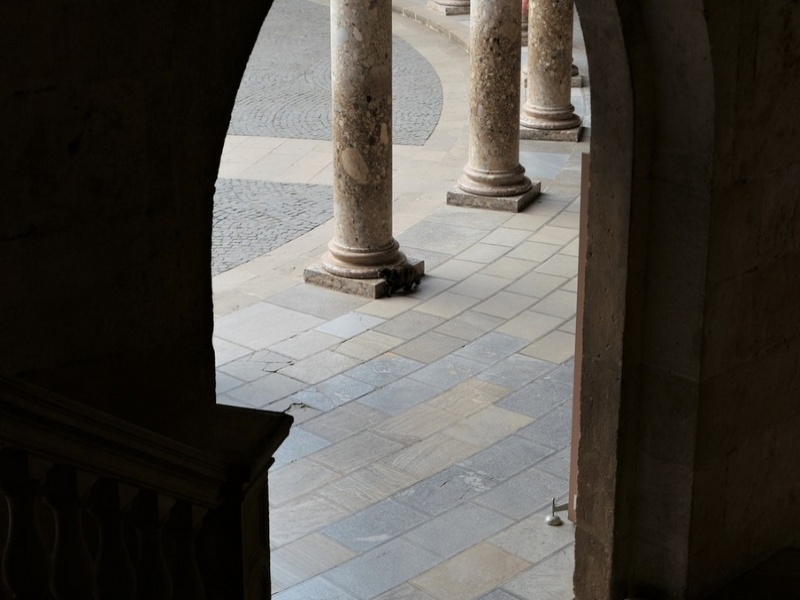cat: (372, 264, 425, 294)
